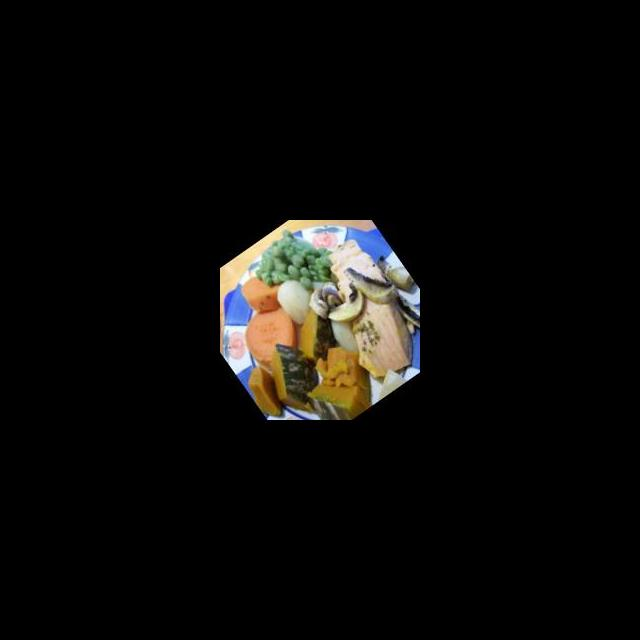ca hoi: (297, 232, 420, 387)
